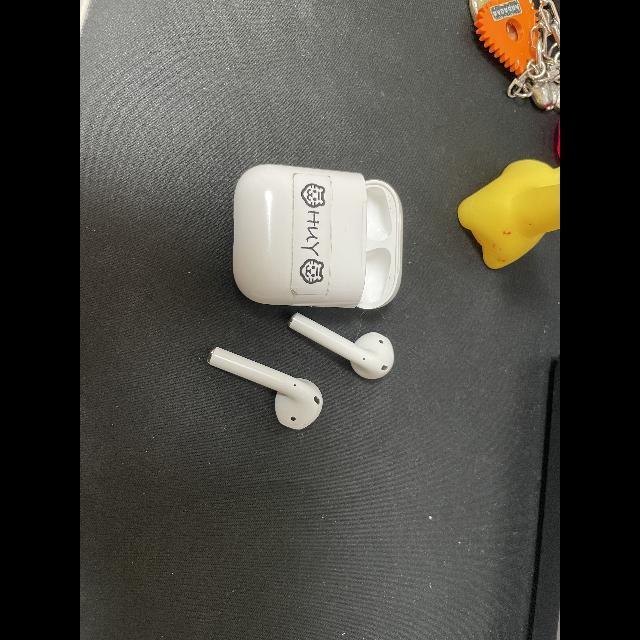airpod2: (196, 156, 410, 430)
